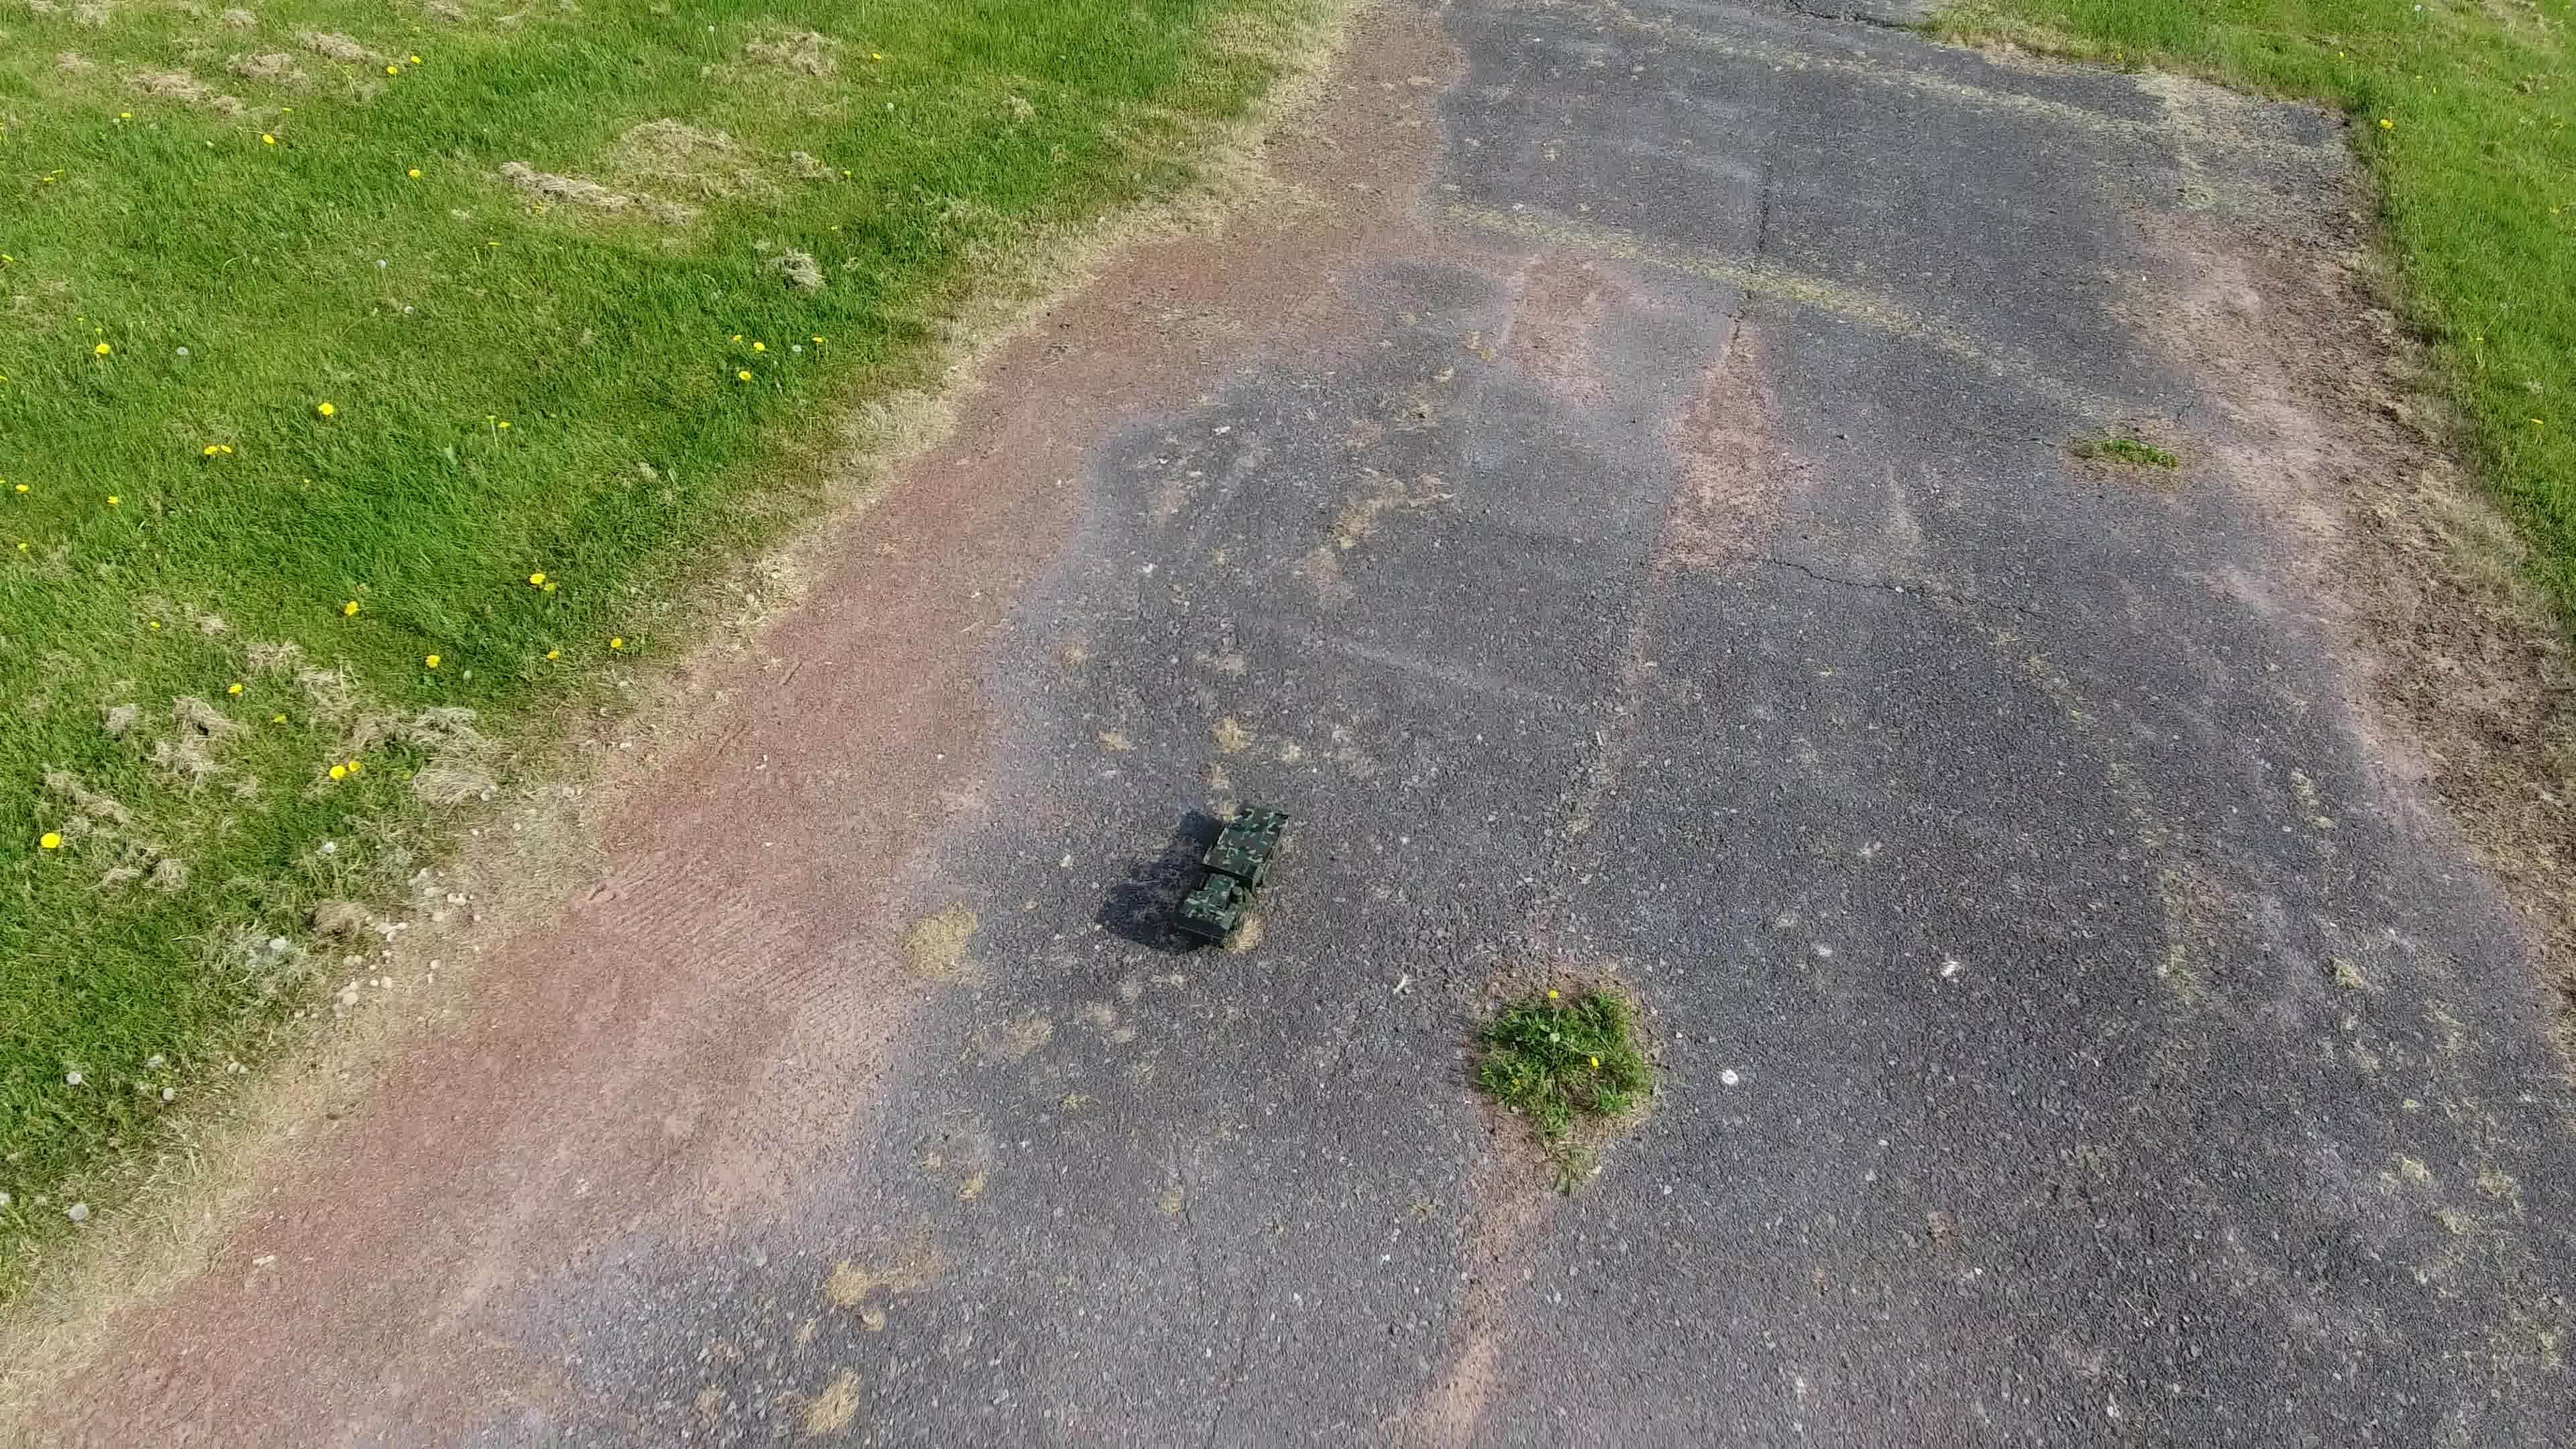transporter9: (1166, 796, 1293, 950)
